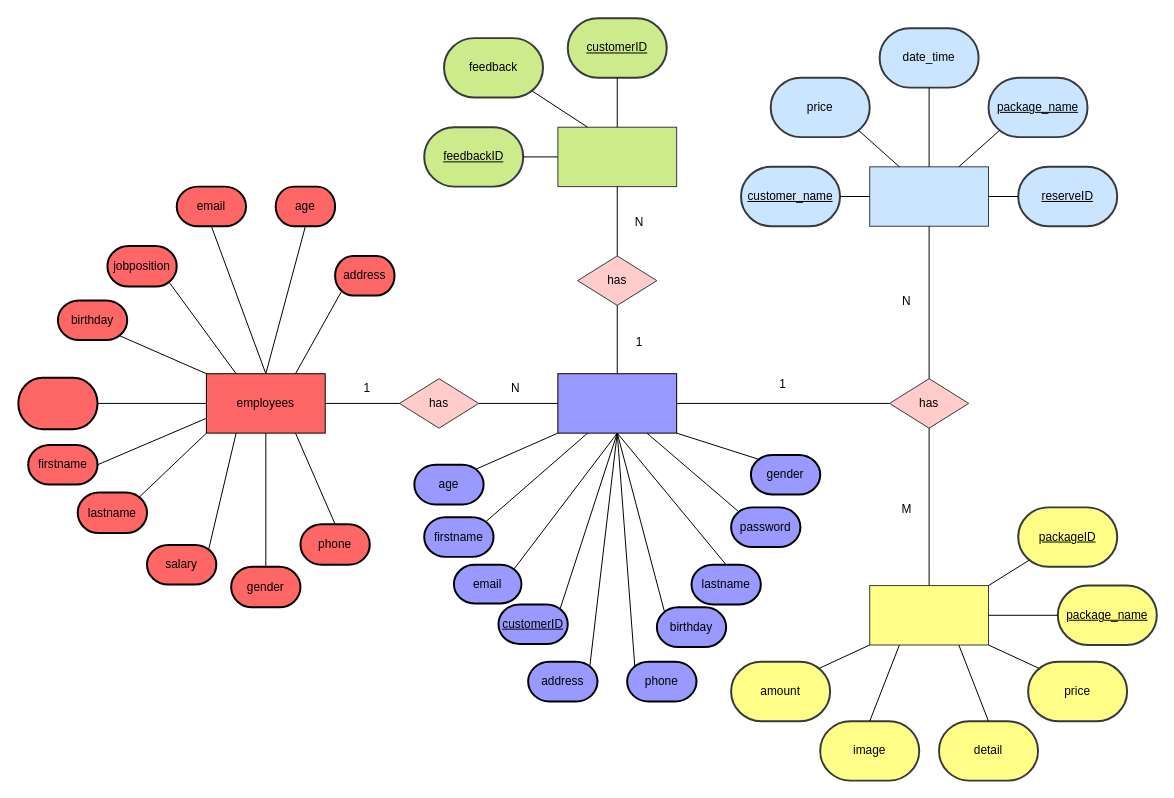
This 1174x798 diagram has some shape labels left out. The shapes that lost their labels are listed below. From the top down, each one's centre as x and y in pixels, then its label:
At point (617, 156): "feedbacks".
At point (929, 196): "reserve".
At point (57, 403): "employeeID".
At point (617, 403): "customers".
At point (929, 615): "packages".
